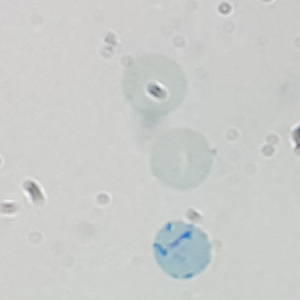aggregate reticulocyte: (151, 219, 213, 281)
erythrocyte: (120, 53, 189, 118), (149, 126, 213, 192)
